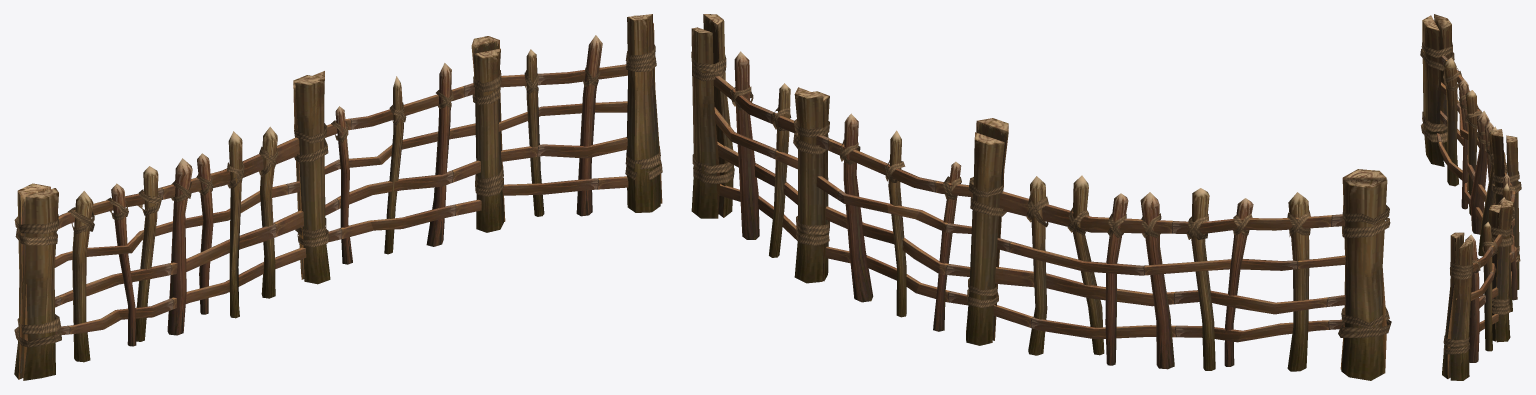
Rendered from q01a_well_02.FBX.
The picture shows the model from 3 angles, left to right: view 1: azimuth 30°, elevation 25°; view 2: azimuth 150°, elevation 25°; view 3: azimuth 270°, elevation 25°; orthographic projection. The views are drawn at different scales.
Visible parts, largest first — view 1: q01a_well_02; view 2: q01a_well_02; view 3: q01a_well_02.
Boxes of the visible parts, x1=… form: q01a_well_02: x1=14, y1=14, x2=662, y2=380; q01a_well_02: x1=691, y1=14, x2=1391, y2=380; q01a_well_02: x1=1420, y1=14, x2=1521, y2=380.
Size of the model in its own units: 234 by 74.48 by 42.22.
